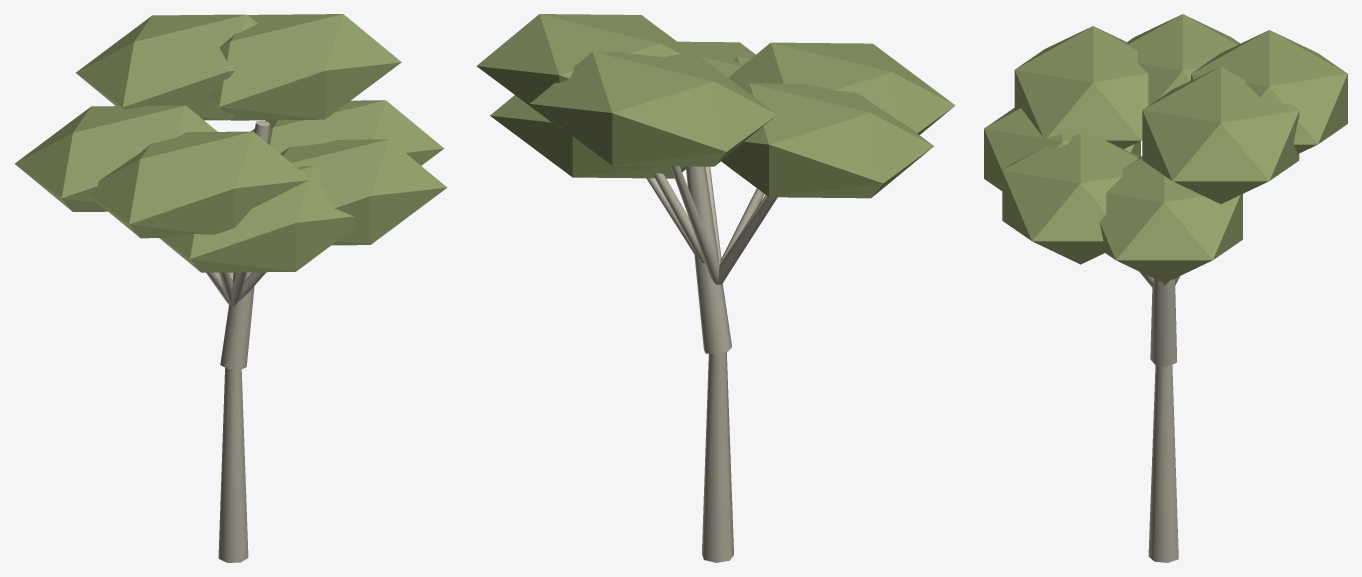
Rendered from mountain-birch.glb.
3 views of the same model, side by side, from view 1: azimuth 30°, elevation 25°; view 2: azimuth 150°, elevation 25°; view 3: azimuth 270°, elevation 25° (orthographic). The views are drawn at different scales.
Visible parts, largest first — view 1: Горная берёза; view 2: Горная берёза; view 3: Горная берёза.
Boxes of the visible parts, <box> form: Горная берёза: <box>15,14,447,562</box>; Горная берёза: <box>476,14,955,562</box>; Горная берёза: <box>984,14,1347,562</box>.
Bounding box in the file's own units: 5.05 × 6.31 × 4.14.
